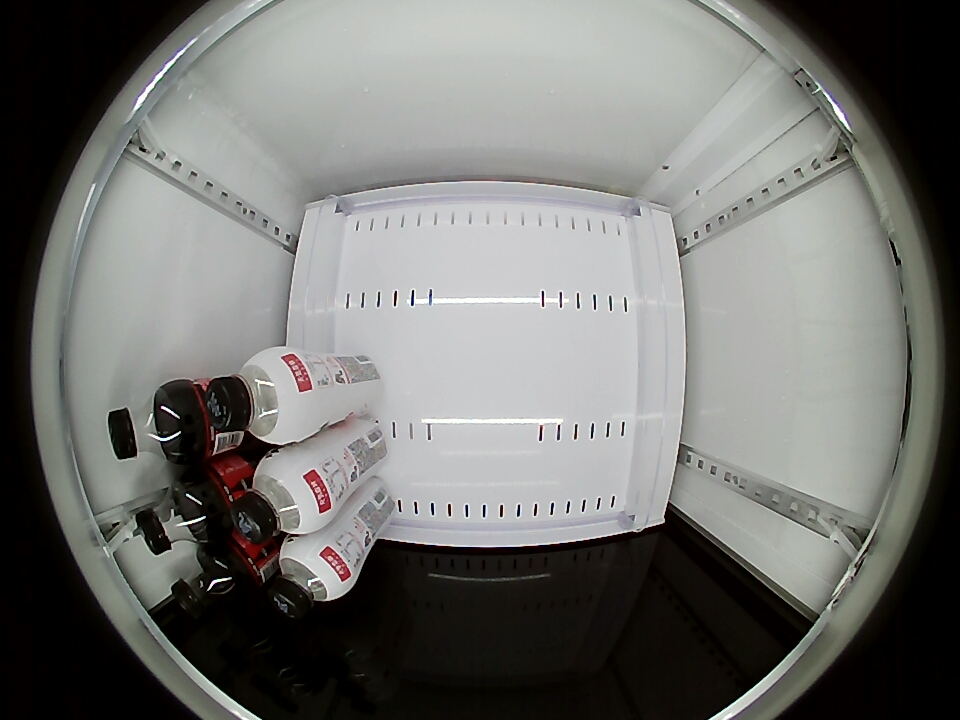lingdukele-b: (108, 384, 187, 463), (135, 478, 215, 555), (171, 550, 237, 615)
yuanqishui: (205, 348, 315, 445), (230, 448, 334, 544), (266, 536, 355, 620)
